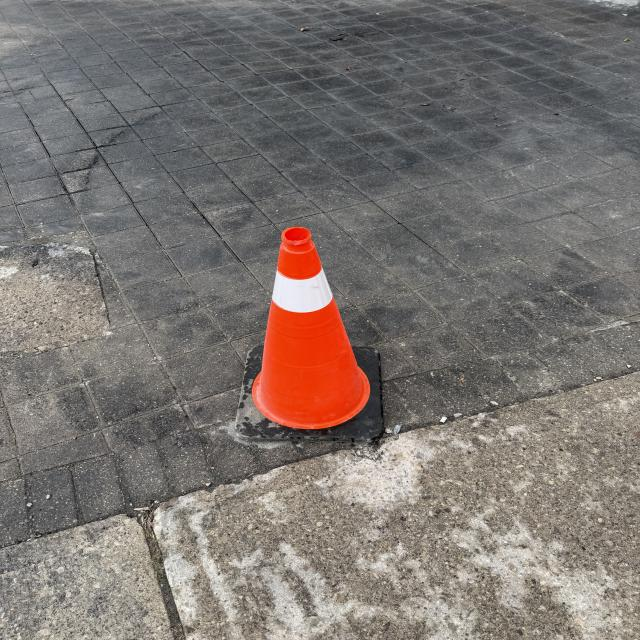Traffic Cone: (233, 224, 391, 440)
